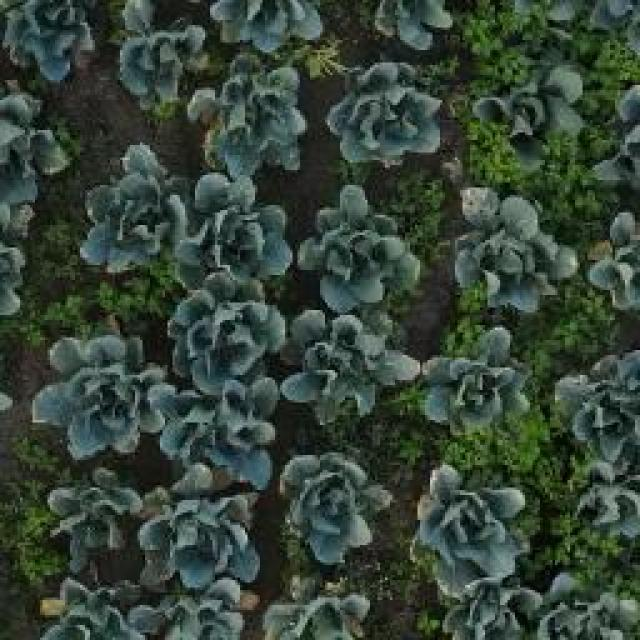cabbage: (295, 180, 423, 311), (283, 309, 421, 428), (29, 330, 164, 448), (77, 137, 191, 275), (138, 465, 264, 584), (194, 57, 320, 172), (408, 465, 528, 583), (280, 449, 398, 569), (461, 186, 578, 306), (166, 269, 290, 382), (152, 371, 280, 480), (323, 60, 444, 169), (421, 325, 536, 435), (183, 171, 298, 280), (469, 64, 584, 170), (43, 467, 144, 568), (556, 344, 640, 464), (112, 6, 208, 93), (0, 0, 98, 75)
